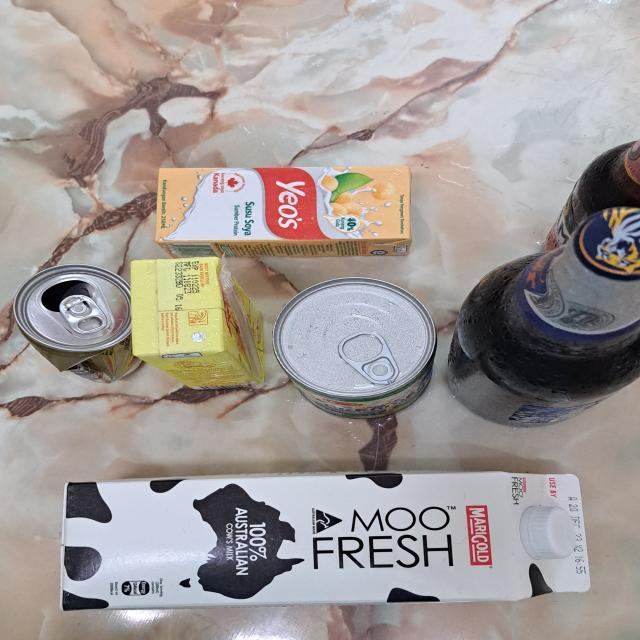can: (274, 275, 436, 419), (13, 265, 142, 378)
drink carton: (58, 470, 593, 608), (158, 165, 415, 256), (132, 256, 265, 390)
glass bottle: (445, 206, 640, 426)
plastic bottle cap: (521, 507, 577, 564)
pop tab: (338, 330, 401, 387), (58, 291, 109, 334)
